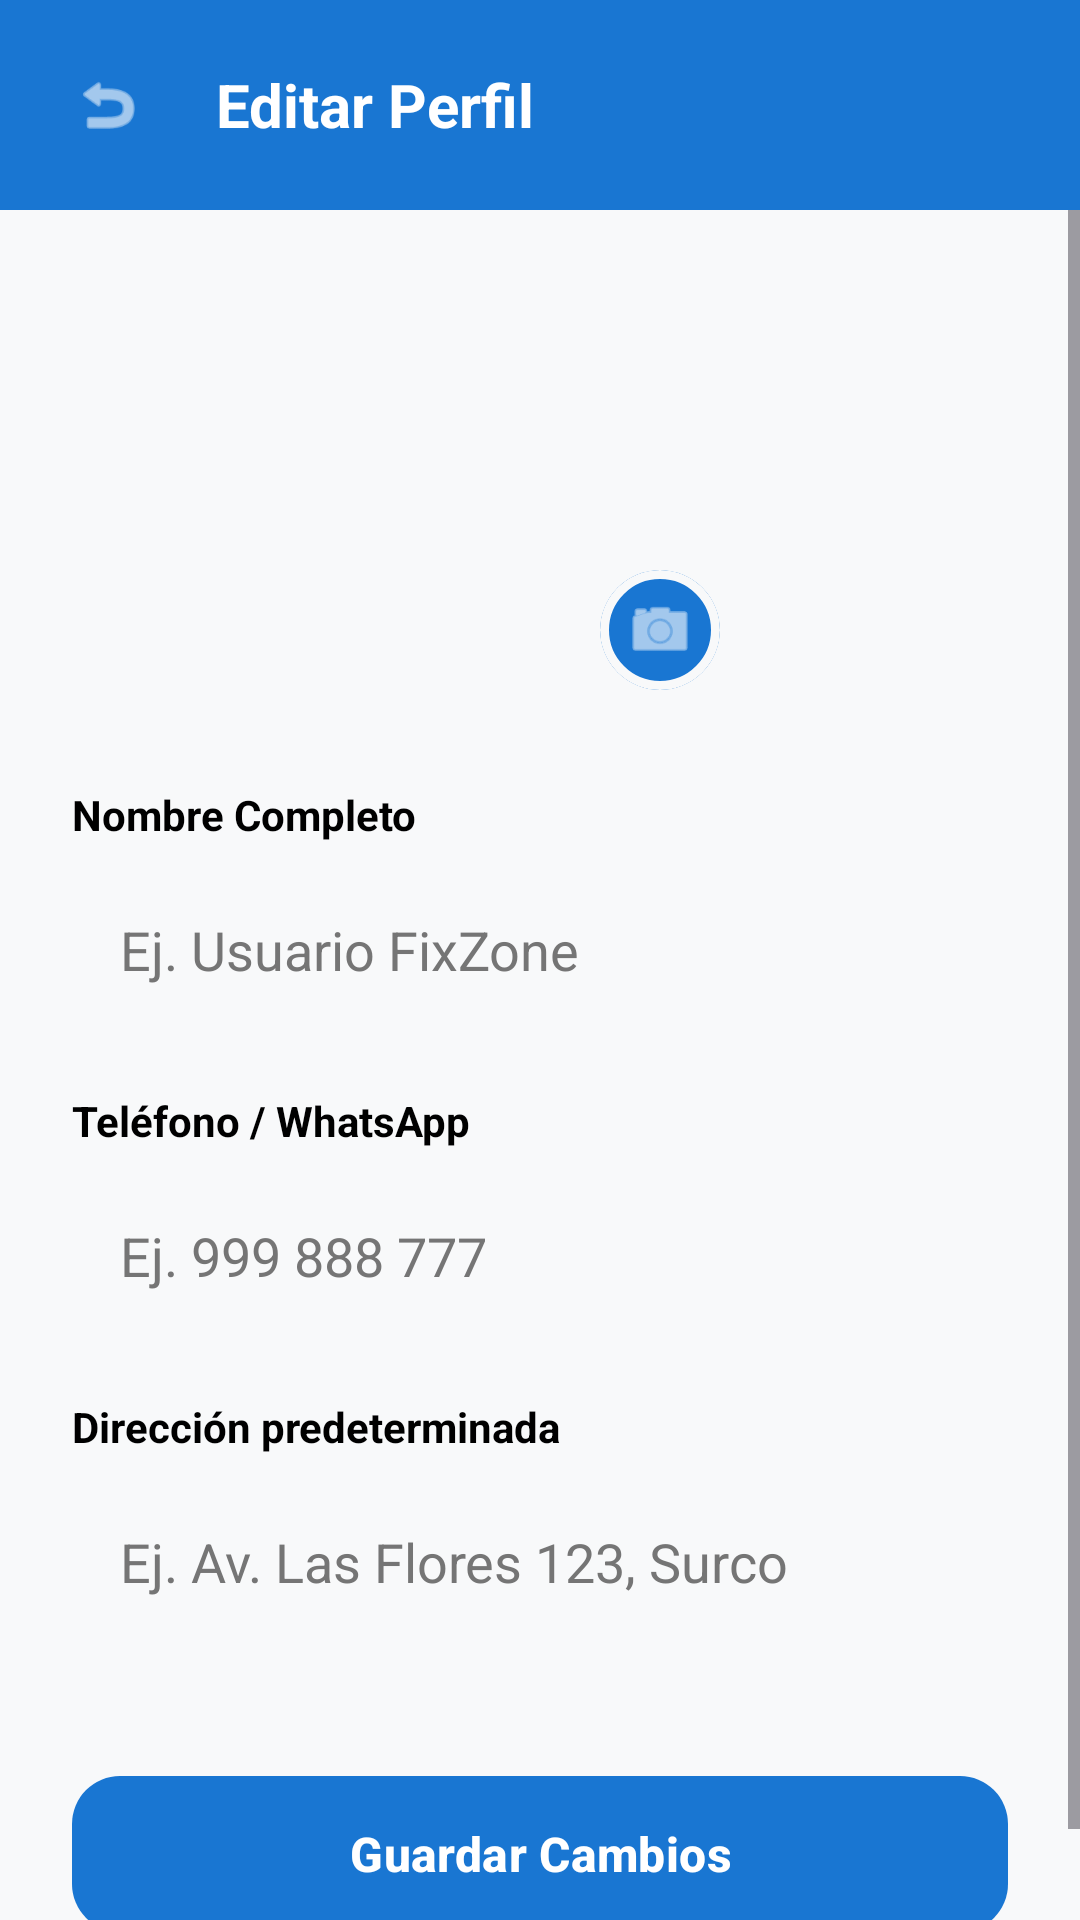

Where to tap for icons on this 1080*1920 app screen, as [x,y]:
camera: [660,630]
revert: [109,105]
